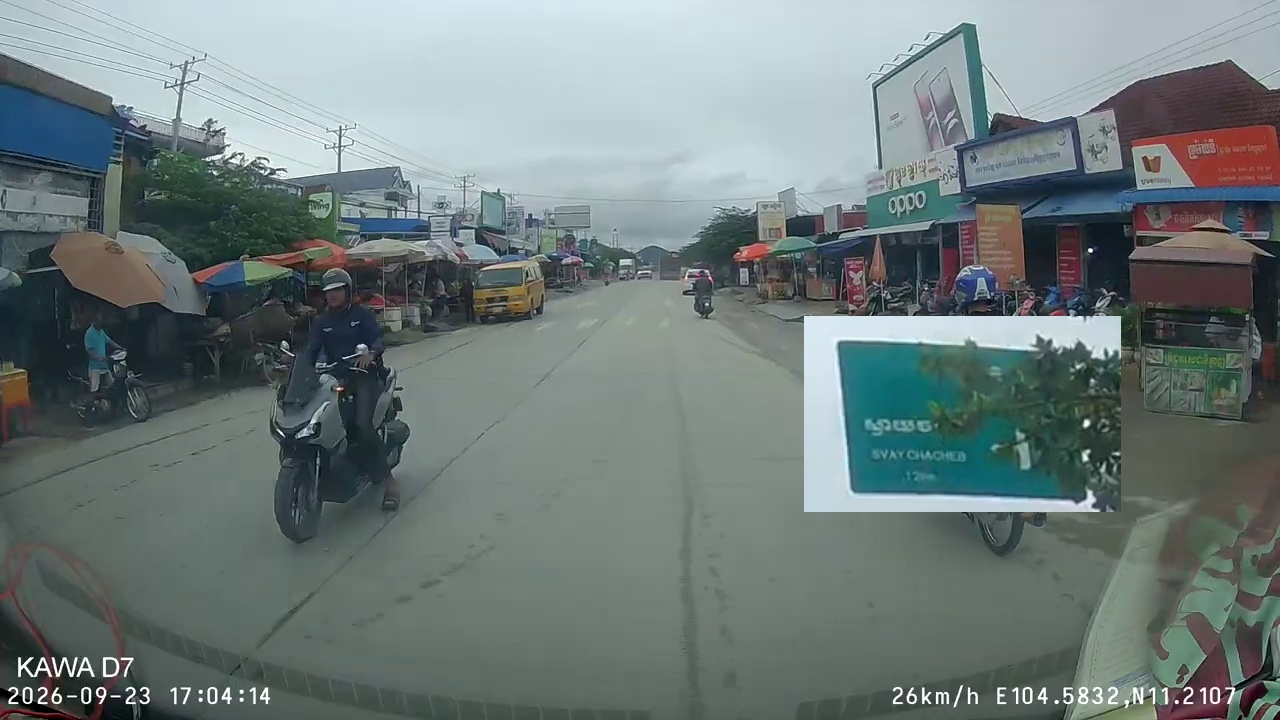direction_sign: (804, 316, 1121, 512)
